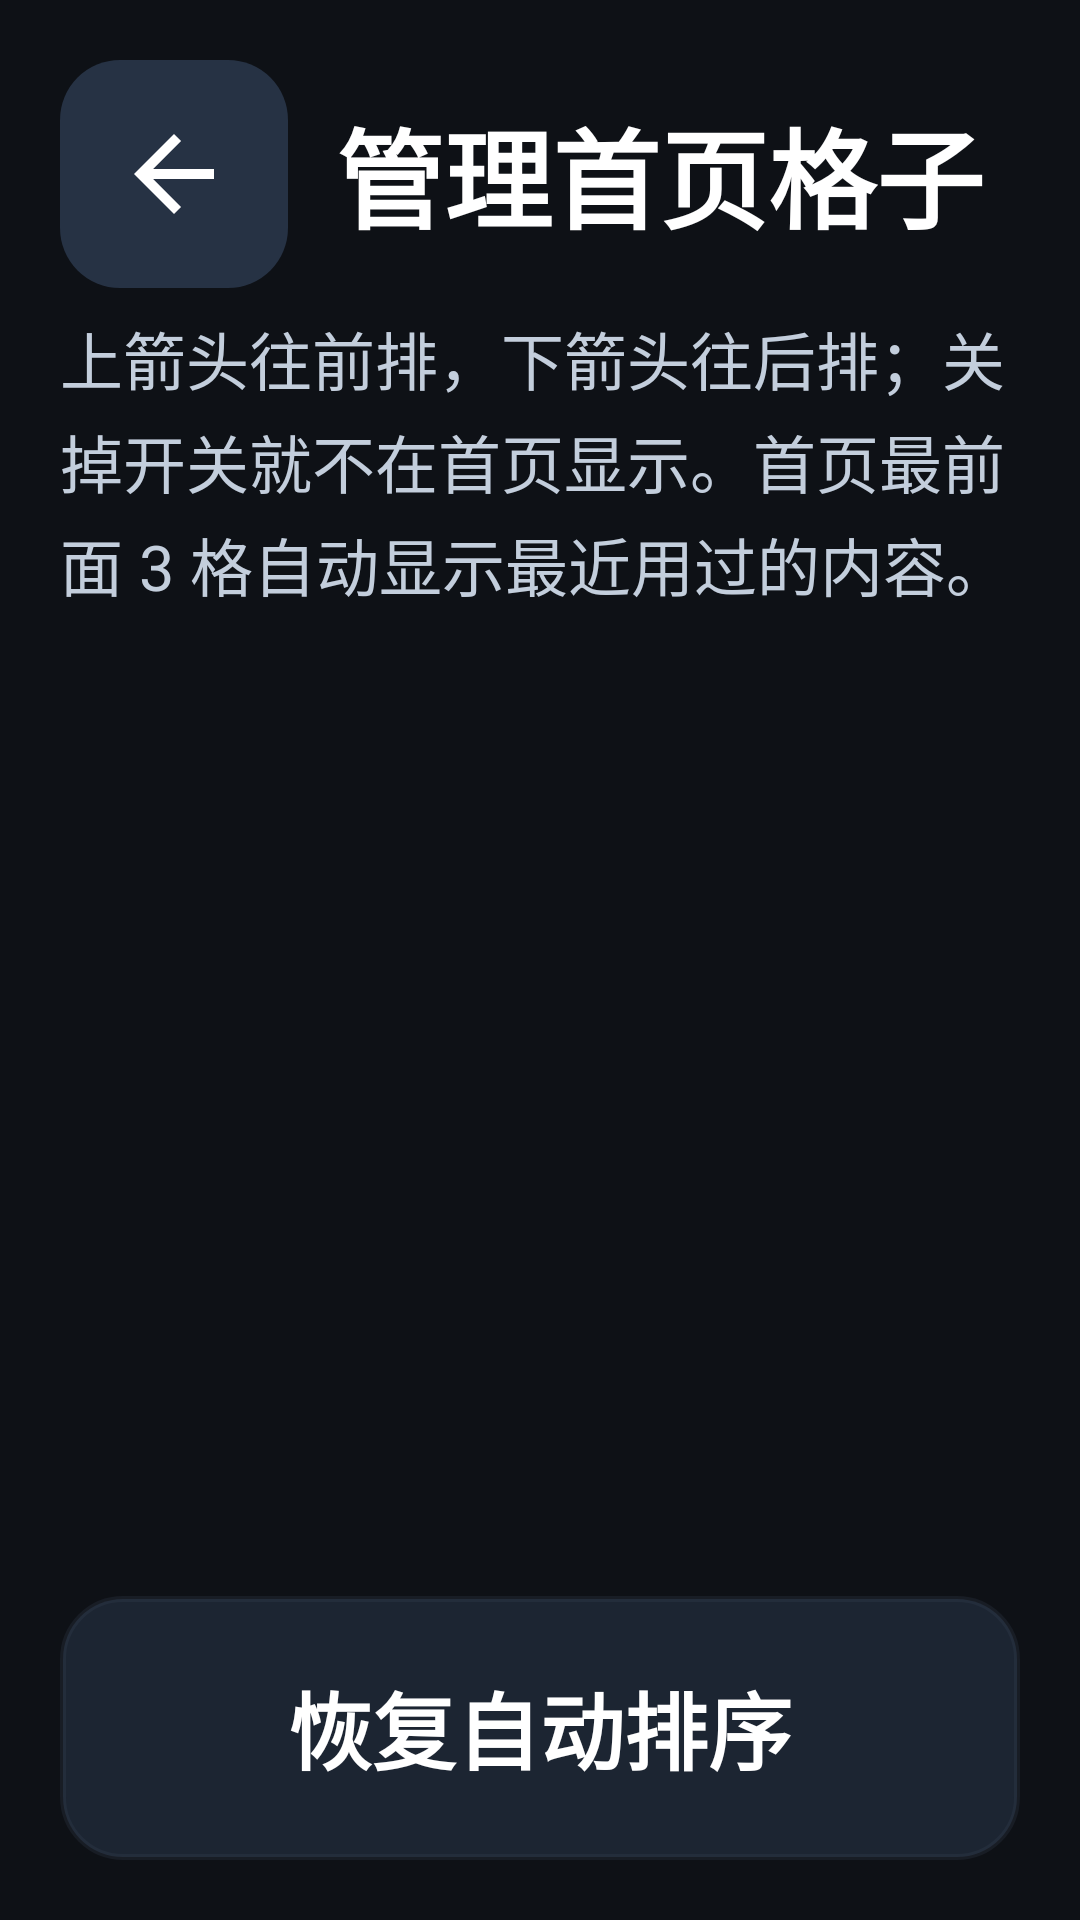

Locate icon controls on the screen. Image size 1080px×1920px, boxes as (x1, y1, x2, y2).
返回: (60, 60, 288, 288)
